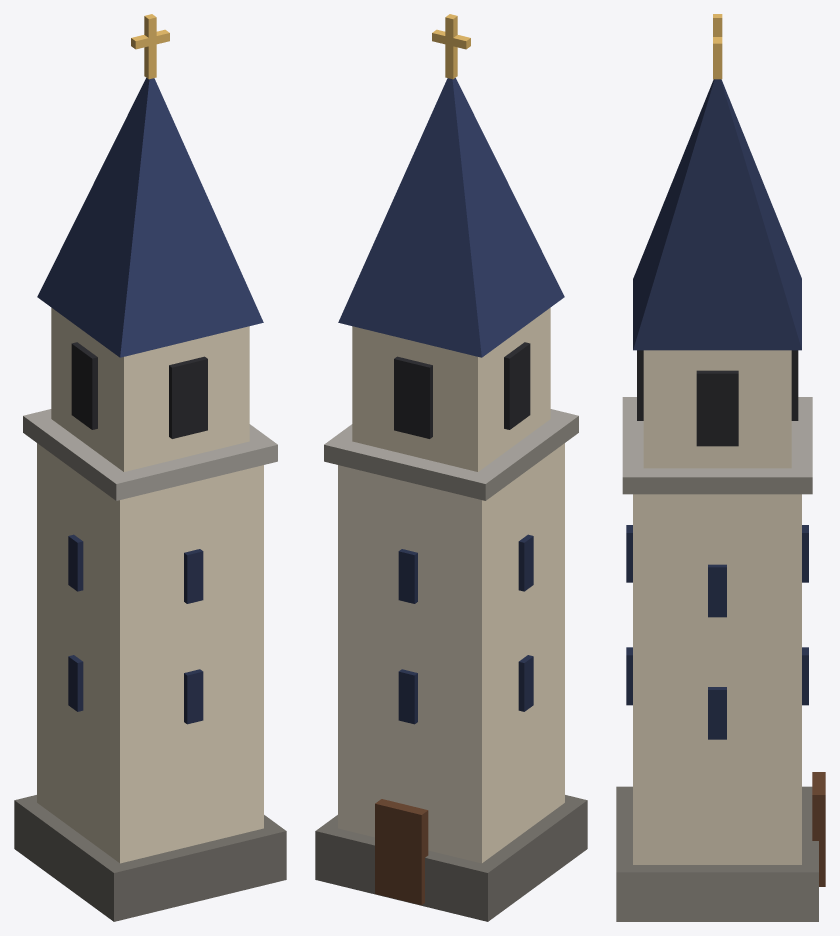
Rendered from SM_Steeple.fbx.
3 renders of one model, left to right at view 1: azimuth 30°, elevation 25°; view 2: azimuth 150°, elevation 25°; view 3: azimuth 270°, elevation 25°, orthographic.
Visible parts, largest first — view 1: SM_Steeple; view 2: SM_Steeple; view 3: SM_Steeple.
Part boxes in pixels (x1=…): SM_Steeple: x1=14, y1=14, x2=286, y2=921; SM_Steeple: x1=315, y1=14, x2=587, y2=921; SM_Steeple: x1=616, y1=14, x2=825, y2=921.
Size of the model in its own units: 4.8 by 22.55 by 4.96.
